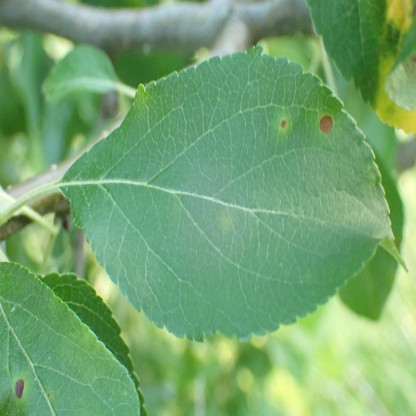frogeye_leaf_spot: (319, 114, 333, 132), (15, 380, 24, 398), (280, 119, 286, 127)
scab: (219, 208, 233, 230)
